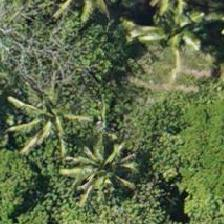coconut_tree: (54, 103, 144, 193), (17, 86, 107, 176)
